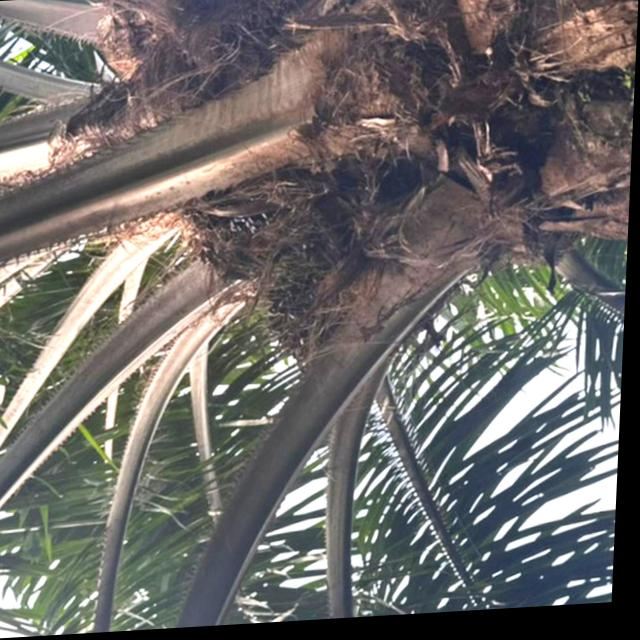unripe: (263, 231, 375, 382), (177, 145, 308, 257)
